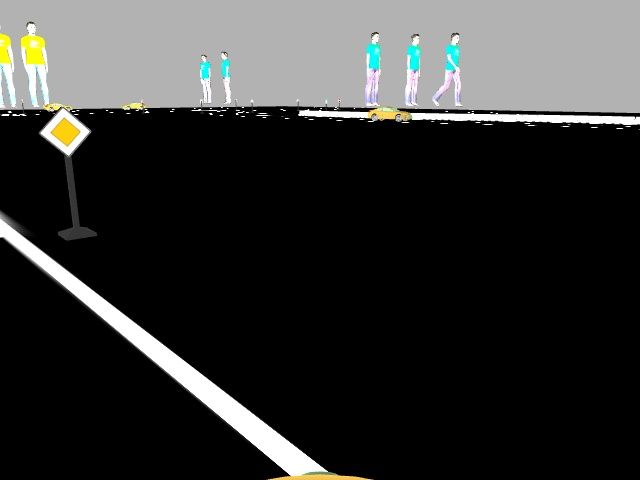Priority: (37, 105, 95, 155)
